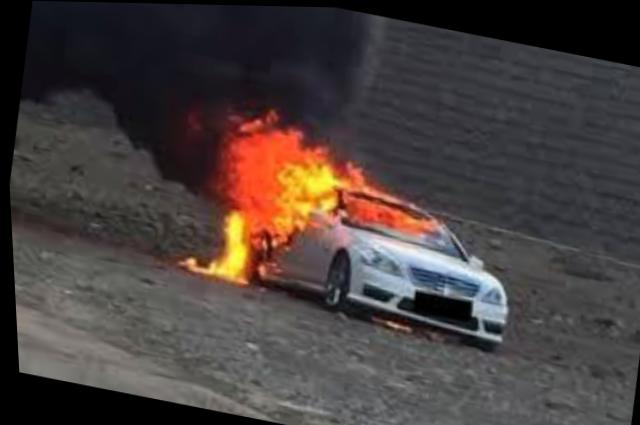fire: (166, 95, 446, 315)
